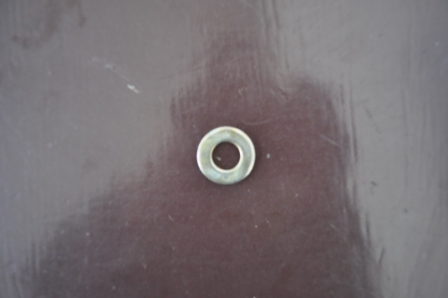METALIC WASHER: (194, 125, 257, 184)
